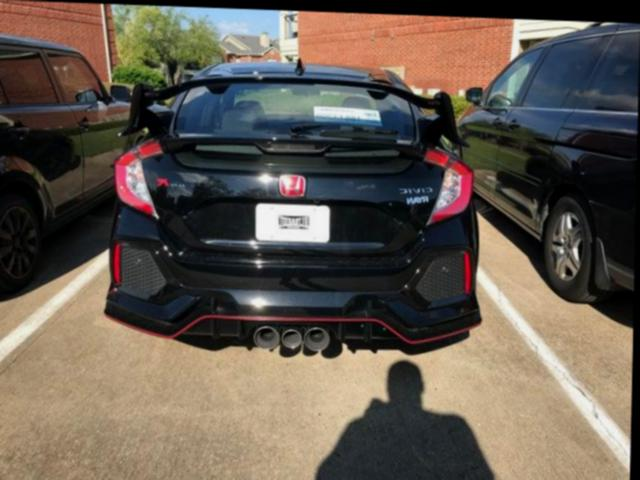License_Plate: (251, 195, 336, 249)
